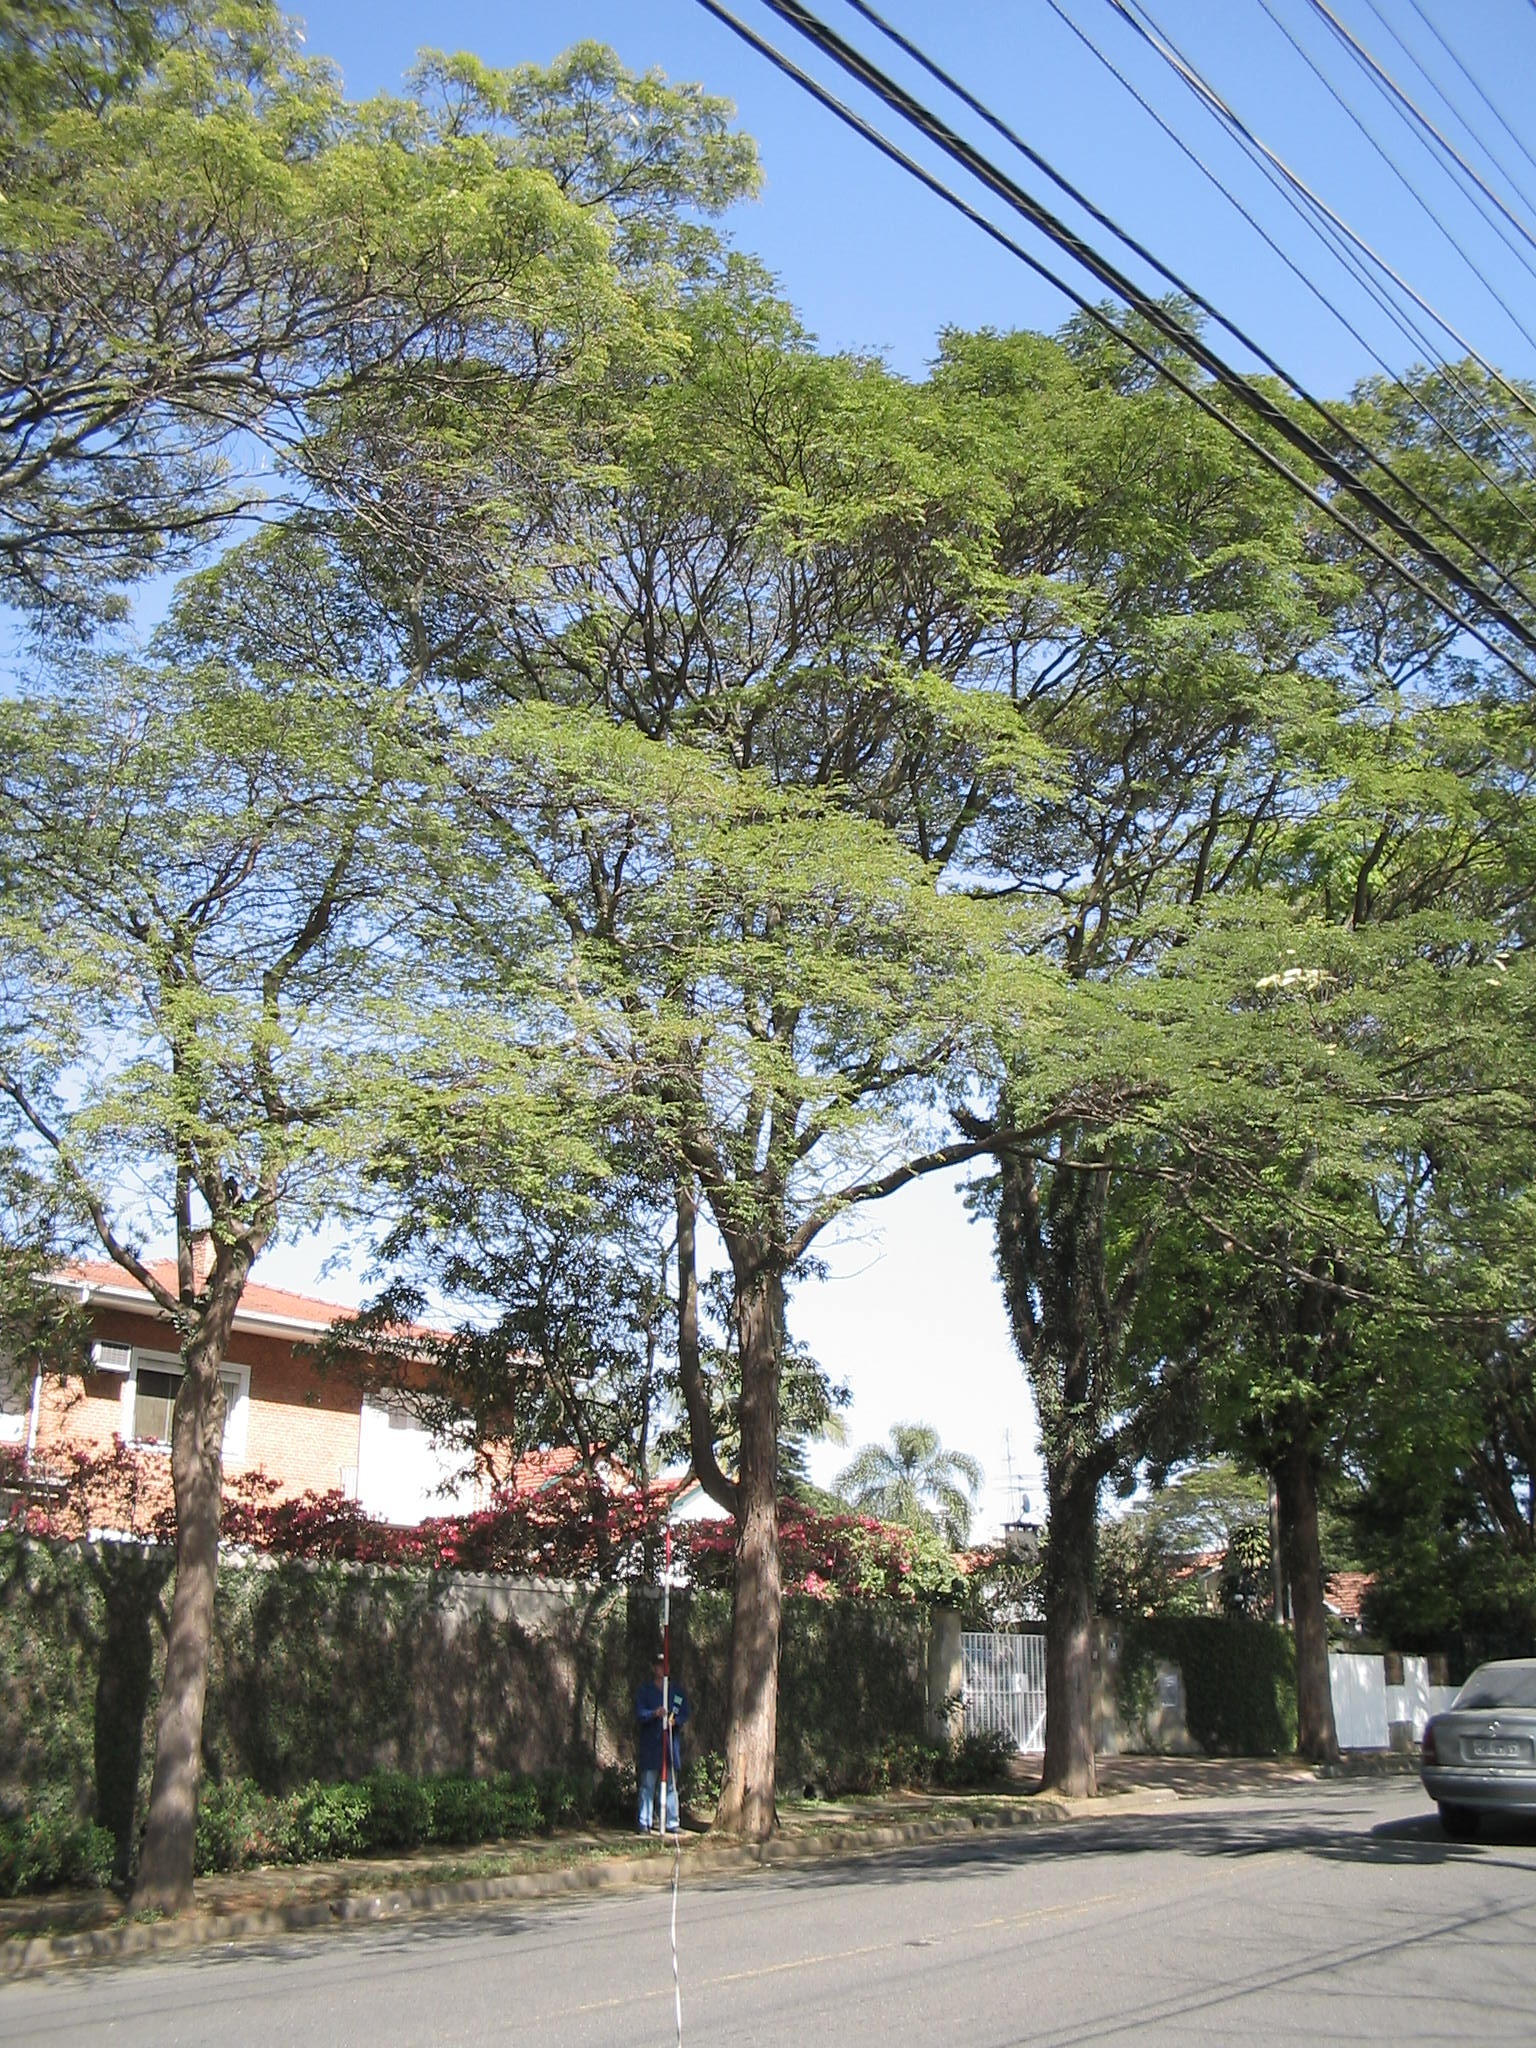crown: (316, 326, 1463, 1348)
stem: (111, 1369, 250, 1916), (687, 1506, 808, 1835), (1002, 1496, 1120, 1800), (1250, 1496, 1378, 1766)
stick: (639, 1517, 682, 1842)
tree: (308, 323, 1471, 1835), (13, 103, 649, 1919)
